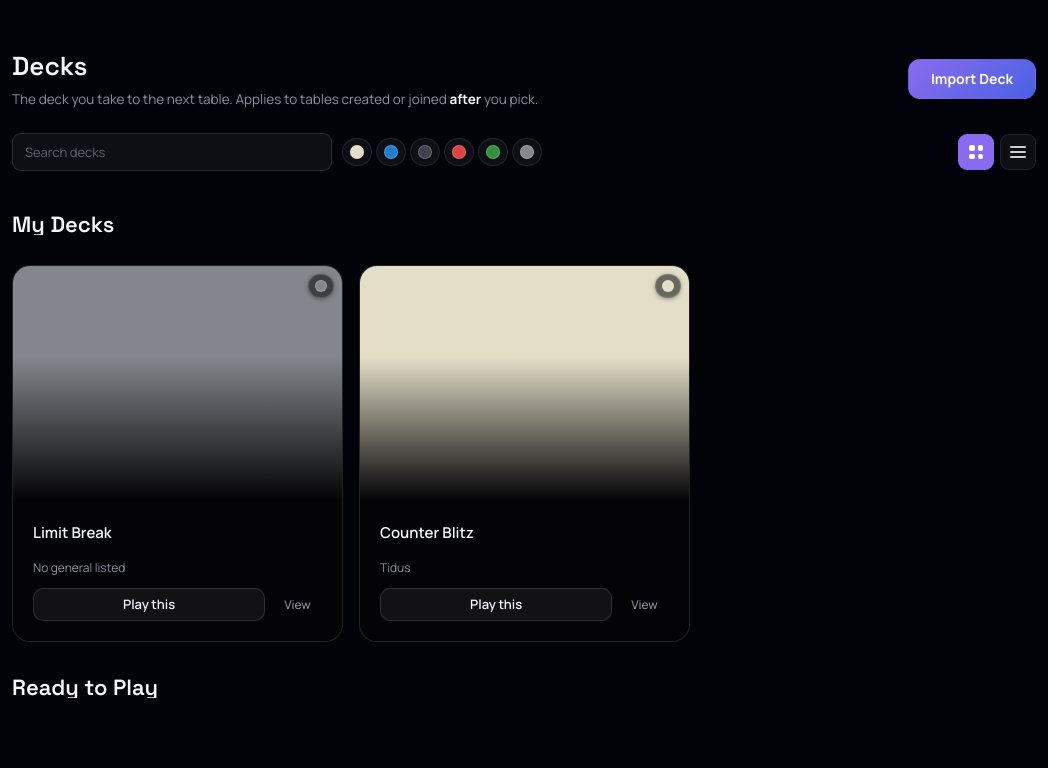
Test: DecksComponent › narrows the shelf by name or general on search
The image size is (1048, 768).
Type "tidus" into the field named "search decks" at x=172, y=152, box [12,133,332,171]
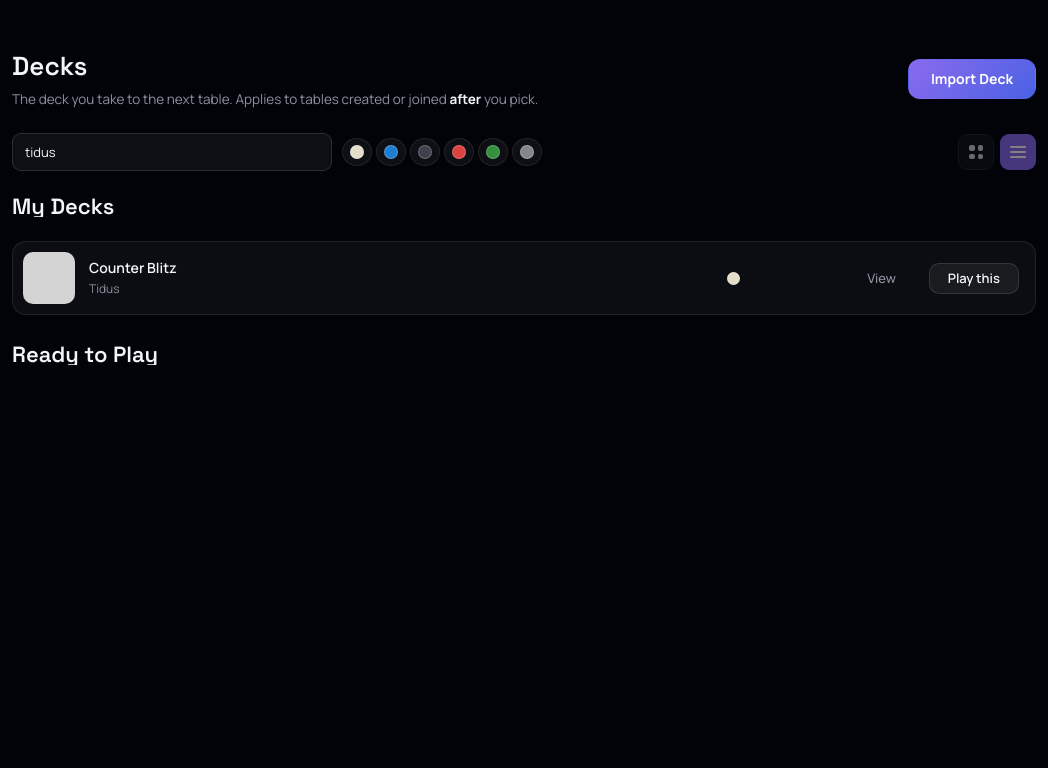
Expected: the text "Counter Blitz" is shown, [89,258,177,277]
Now the text "Limit Break" is gone
